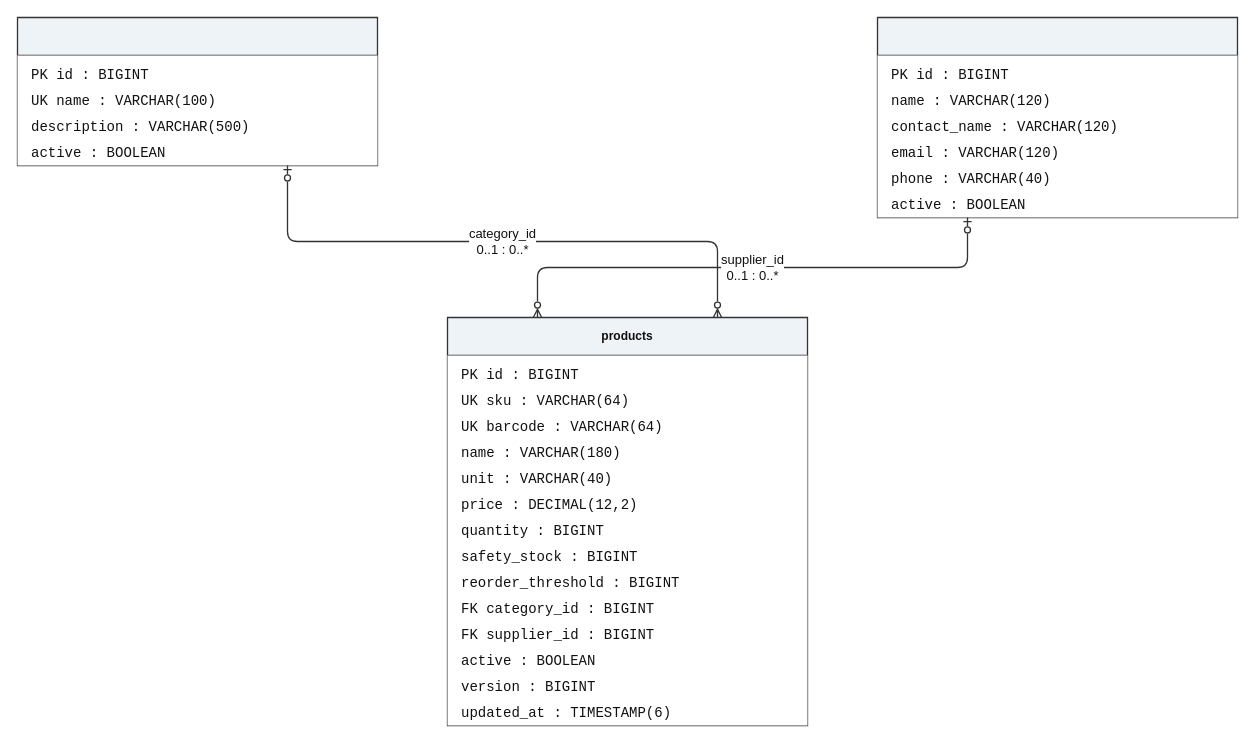
The diagram is 1256 pixels wide and 744 high, and some of its shapes have lost their labels. Each missing label, with the box of its shape:
categories: (16, 16, 378, 166)
suppliers: (876, 16, 1238, 218)
